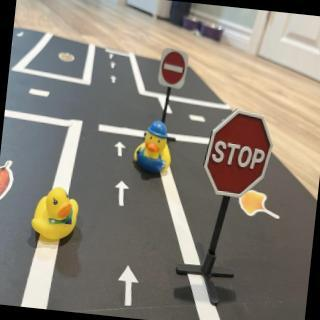duck_regular: (29, 185, 81, 247)
duck_specialty: (131, 120, 175, 183)
road_oneway: (116, 261, 142, 310), (114, 177, 133, 210), (114, 138, 127, 159), (16, 29, 28, 41), (109, 73, 119, 86), (111, 63, 117, 71), (109, 53, 115, 60)
sign_noentry: (157, 48, 190, 91)
sign_stop: (201, 108, 277, 205)
